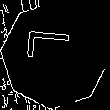L_E: (28, 37, 82, 73)
